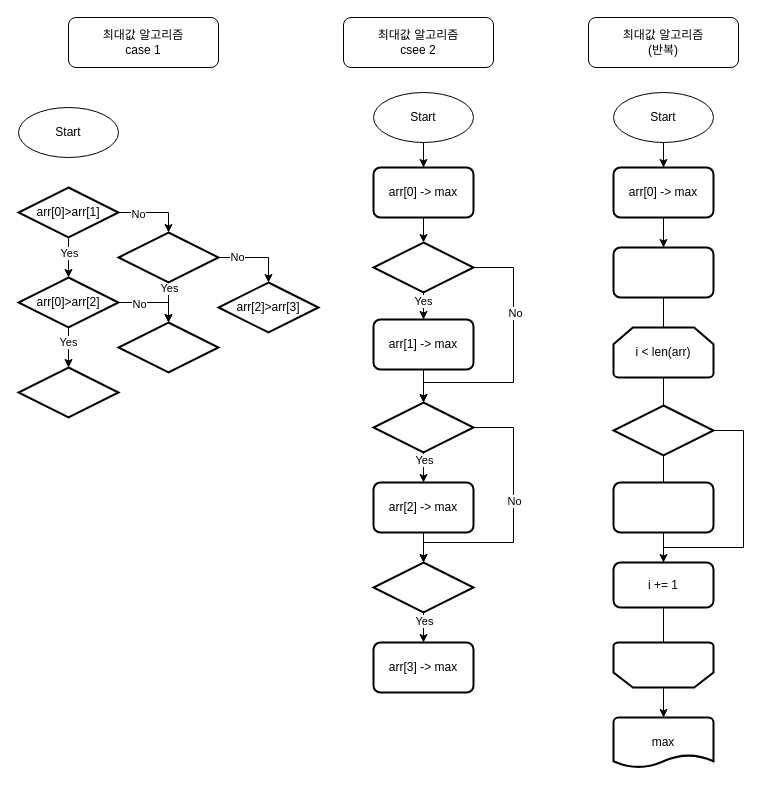
This 769x786 diagram has some shape labels left out. Here are the shapes that lost their labels. From the top down, the box of each, then its label:
(117, 231, 219, 283): arr[1]>arr[2]
(372, 241, 474, 293): arr[1] > max
(612, 246, 714, 298): i = 0
(117, 321, 219, 373): arr[1]>arr[3]
(17, 366, 119, 418): arr[0]>arr[3]
(372, 401, 474, 453): arr[2] > max
(612, 404, 714, 456): arr[i] > max
(612, 481, 714, 533): arr[i] -> max
(372, 561, 474, 613): arr[3] > max
